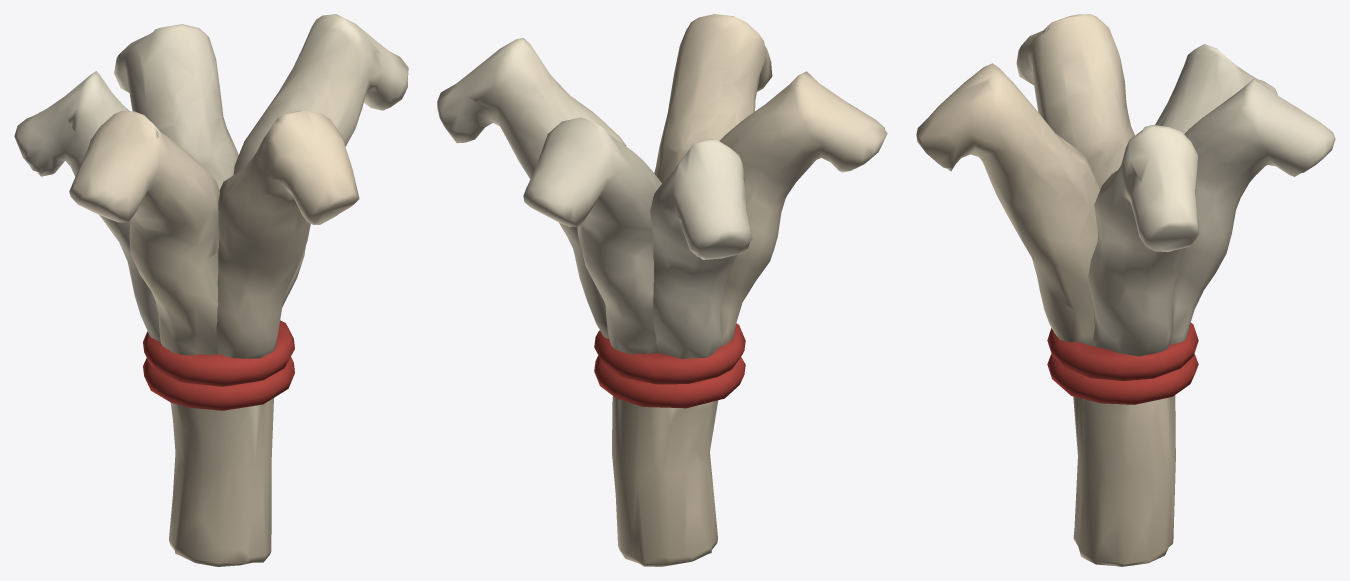
Rendered from den_fringe_tassel.glb.
3 renders of one model, left to right at view 1: azimuth 30°, elevation 25°; view 2: azimuth 150°, elevation 25°; view 3: azimuth 270°, elevation 25°, orthographic.
Visible parts, largest first — view 1: den_fringe_tassel; view 2: den_fringe_tassel; view 3: den_fringe_tassel.
Part boxes in pixels (x1=…): den_fringe_tassel: x1=14, y1=14, x2=408, y2=566; den_fringe_tassel: x1=437, y1=14, x2=887, y2=566; den_fringe_tassel: x1=916, y1=14, x2=1335, y2=566.
Size of the model in its own units: 4.91 by 6 by 4.69.
